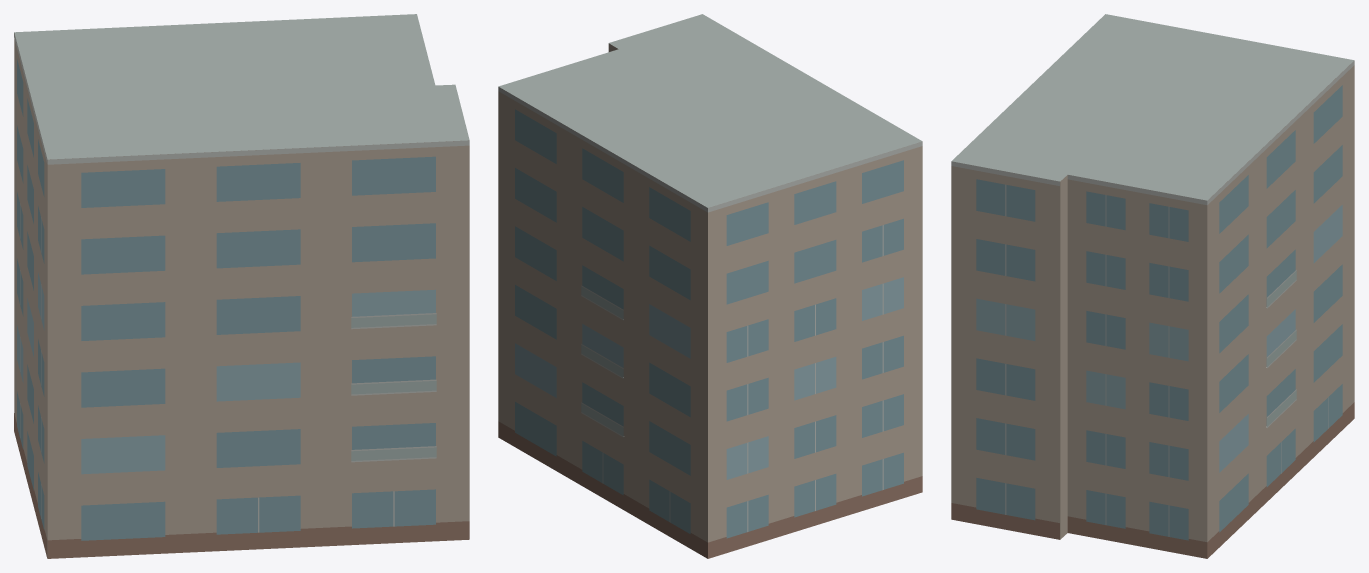
Rendered from survey-upis-32732627.glb.
3 renders of one model, left to right at view 1: azimuth 30°, elevation 25°; view 2: azimuth 150°, elevation 25°; view 3: azimuth 270°, elevation 25°, orthographic. The views are drawn at different scales.
Visible parts, largest first — view 1: survey-upis-32732627.tmp; view 2: survey-upis-32732627.tmp; view 3: survey-upis-32732627.tmp.
Boxes of the visible parts, box(x1,y1,x2,y2) form: survey-upis-32732627.tmp: box(14, 14, 469, 558); survey-upis-32732627.tmp: box(498, 14, 922, 558); survey-upis-32732627.tmp: box(951, 14, 1354, 558).
Size of the model in its own units: 20.9 by 18.7 by 19.08.
